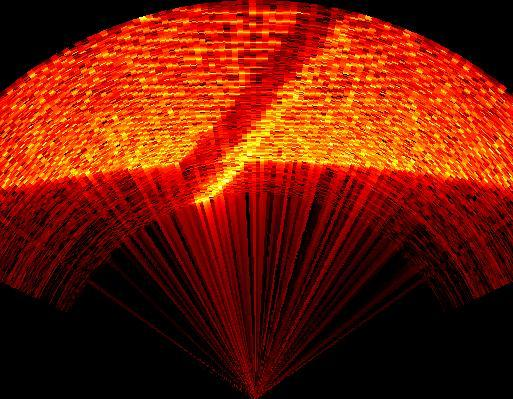pipe: (181, 5, 361, 199)
